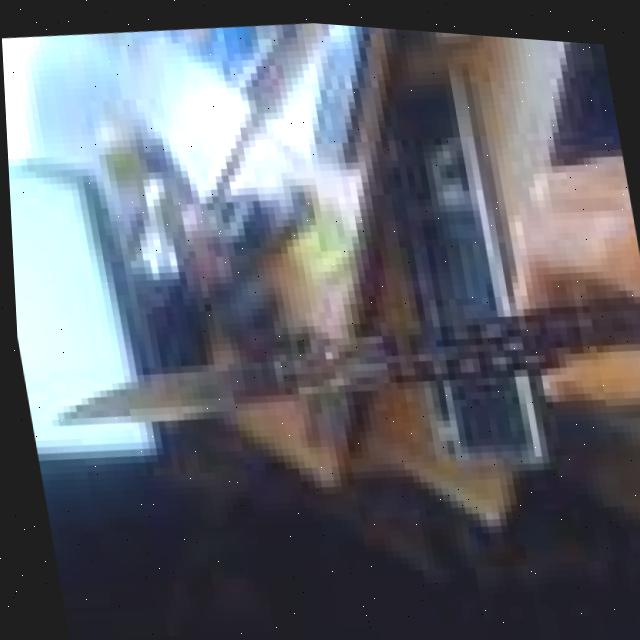knife: (21, 242, 640, 467)
